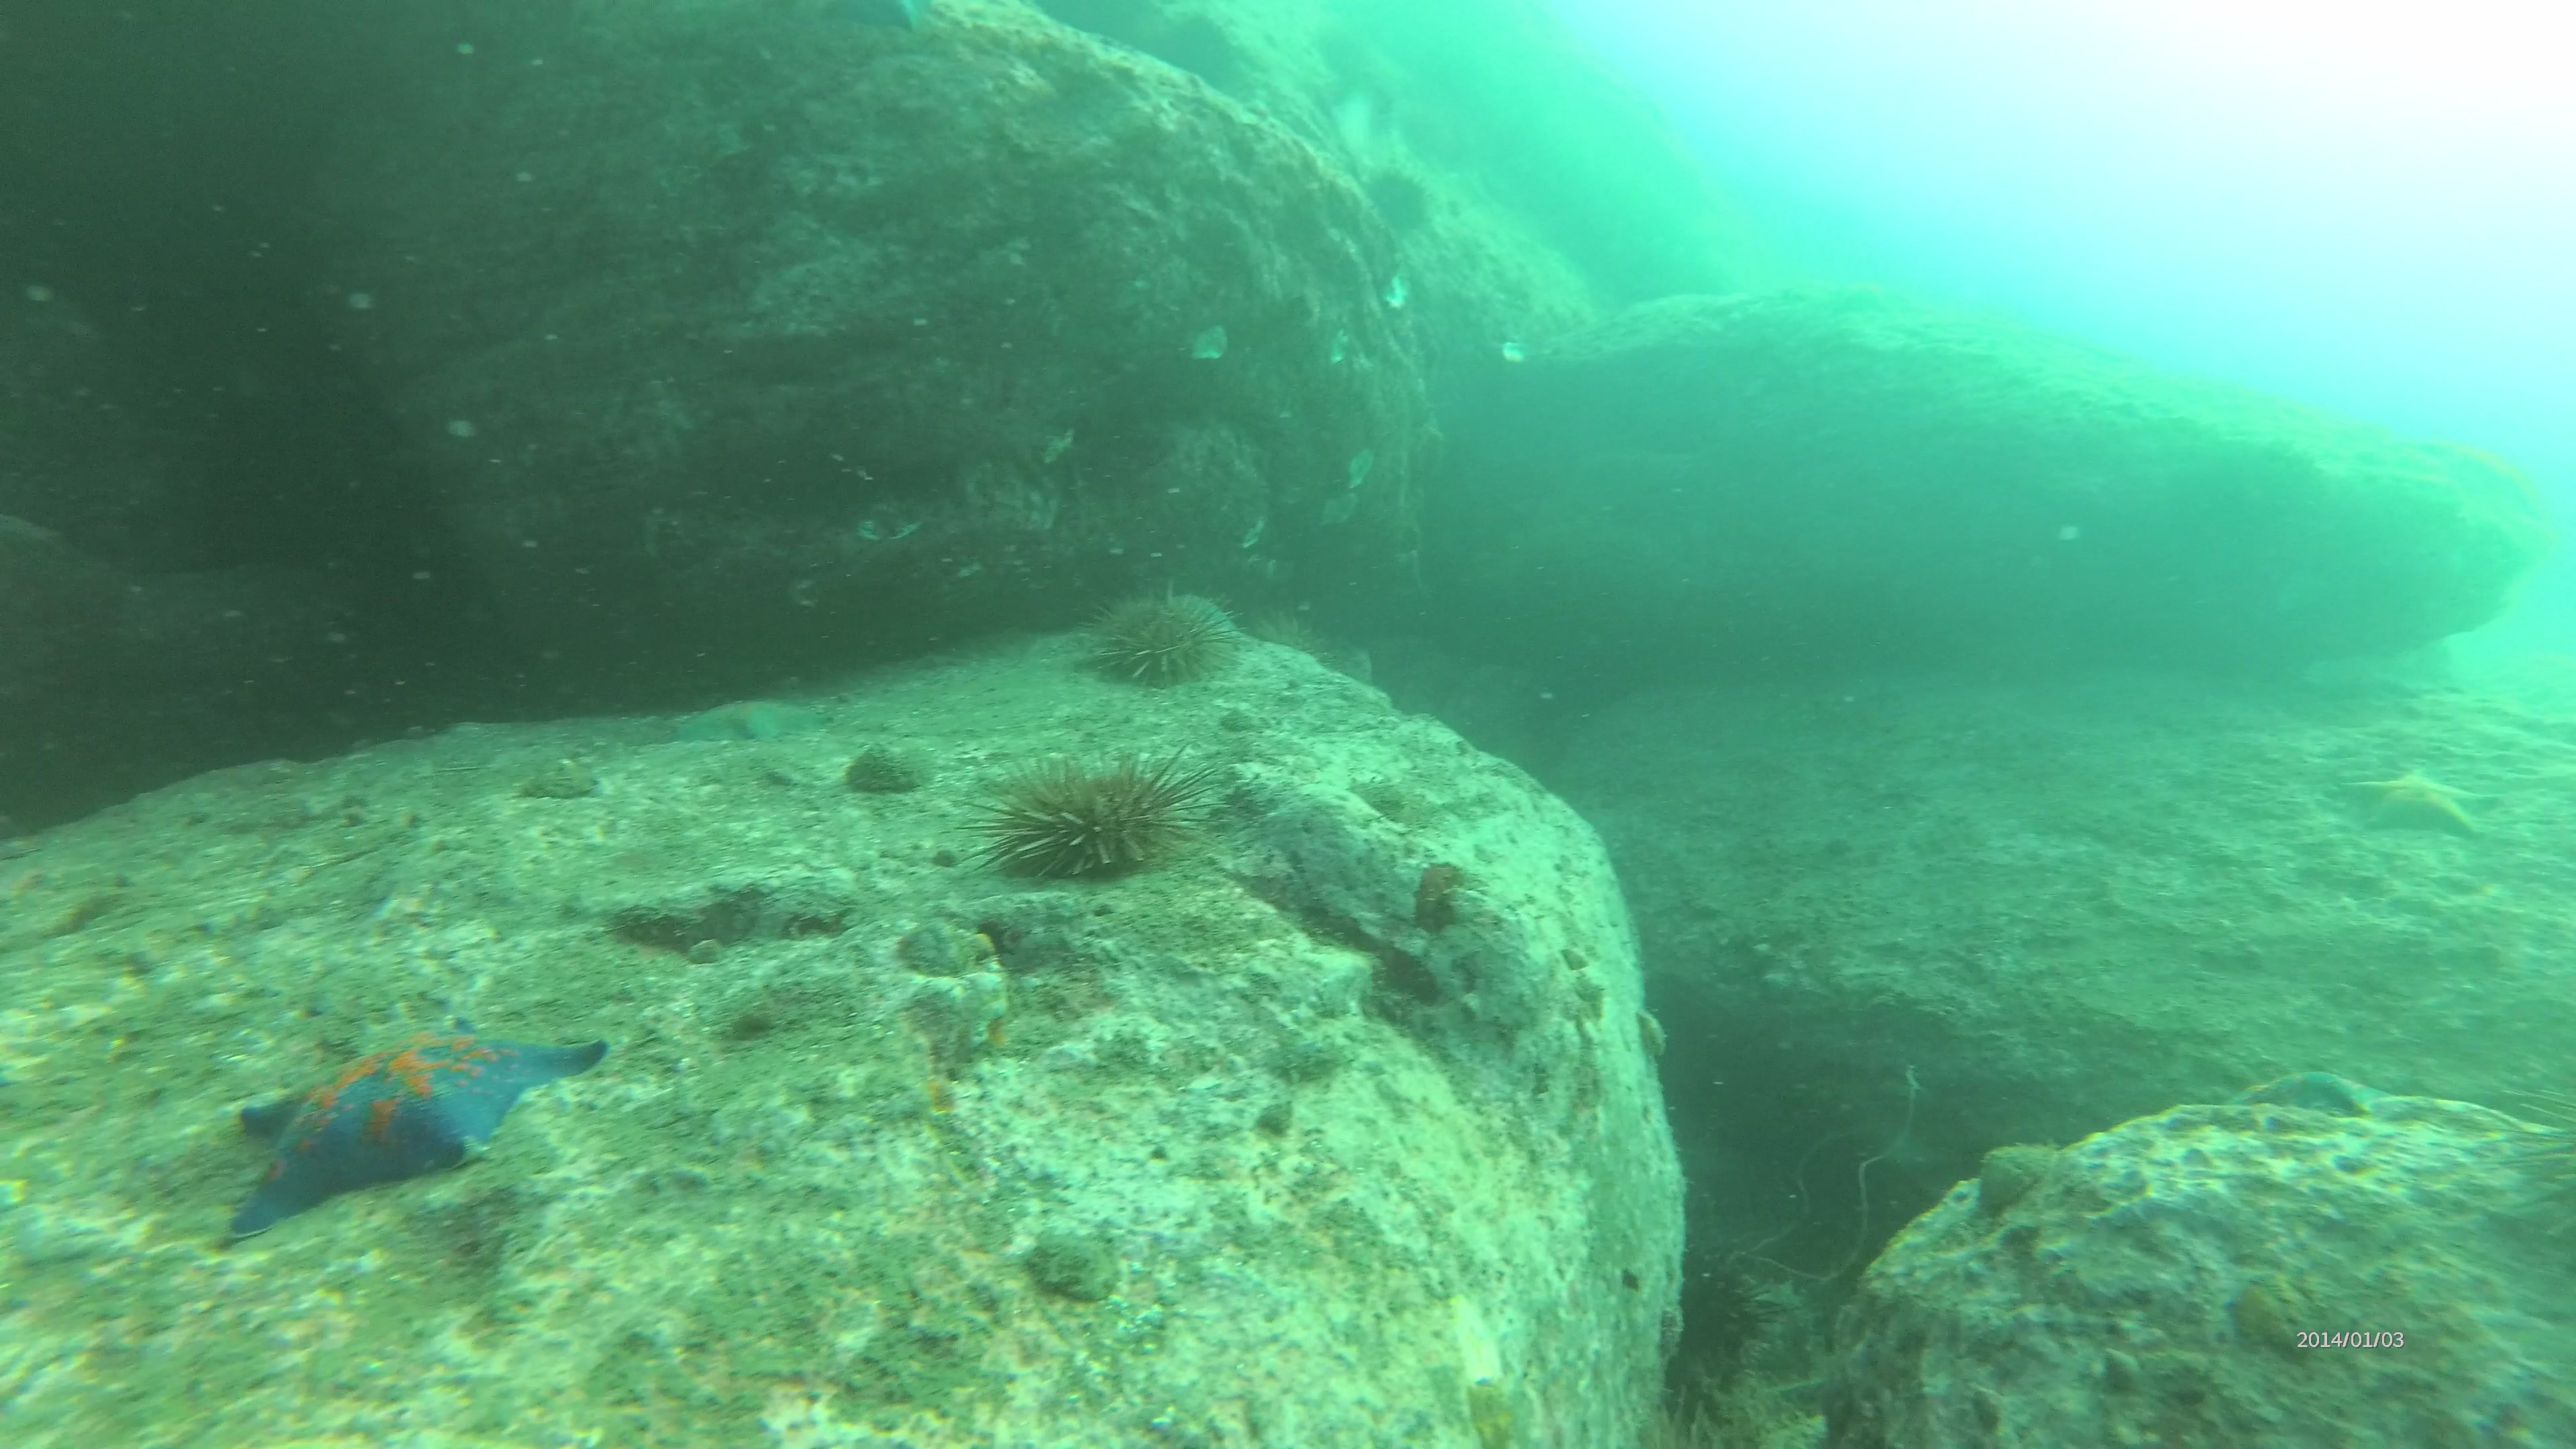echinus: (961, 759, 1235, 883), (1086, 582, 1244, 701), (1361, 157, 1447, 246)
starfish: (235, 1014, 598, 1238), (2353, 754, 2507, 842), (2247, 1054, 2390, 1123)
